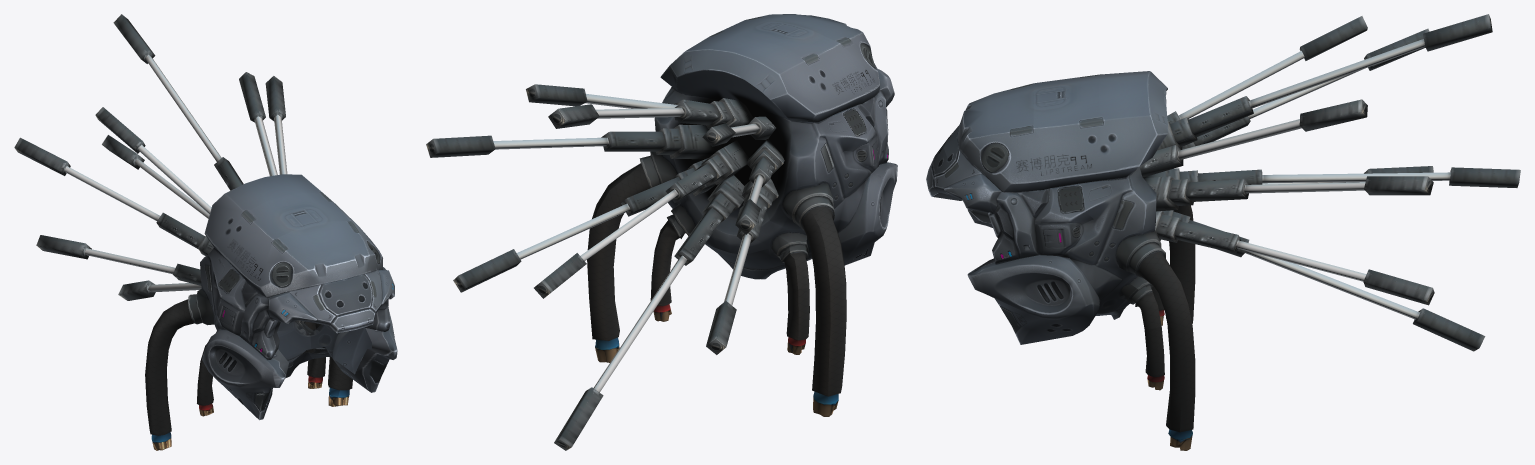
The model's file is headwear copy.glb.
3 views of the same model, side by side, from view 1: azimuth 30°, elevation 25°; view 2: azimuth 150°, elevation 25°; view 3: azimuth 270°, elevation 25° (orthographic). The views are drawn at different scales.
Visible parts, largest first — view 1: Wolf3D_Headwear; view 2: Wolf3D_Headwear; view 3: Wolf3D_Headwear.
Boxes of the visible parts, bbox=[...] form: Wolf3D_Headwear: bbox=[14, 14, 397, 450]; Wolf3D_Headwear: bbox=[426, 14, 897, 450]; Wolf3D_Headwear: bbox=[926, 14, 1520, 450].
Size of the model in its own units: 0.3234 by 0.3688 by 0.52.
1 material, 1 textured.
